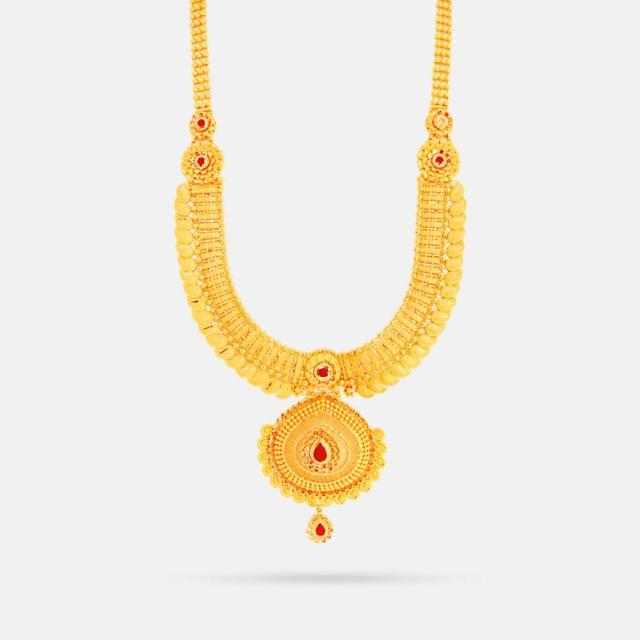missing gem: (436, 117, 446, 126)
